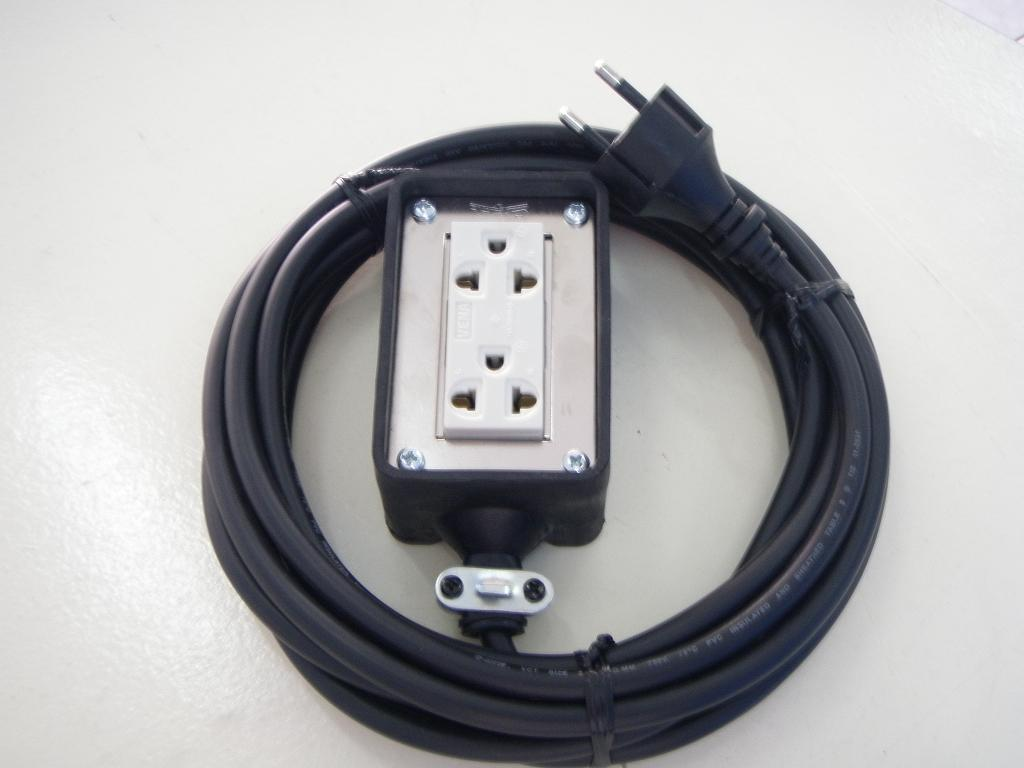Three_eye_plug: (357, 135, 639, 626)
